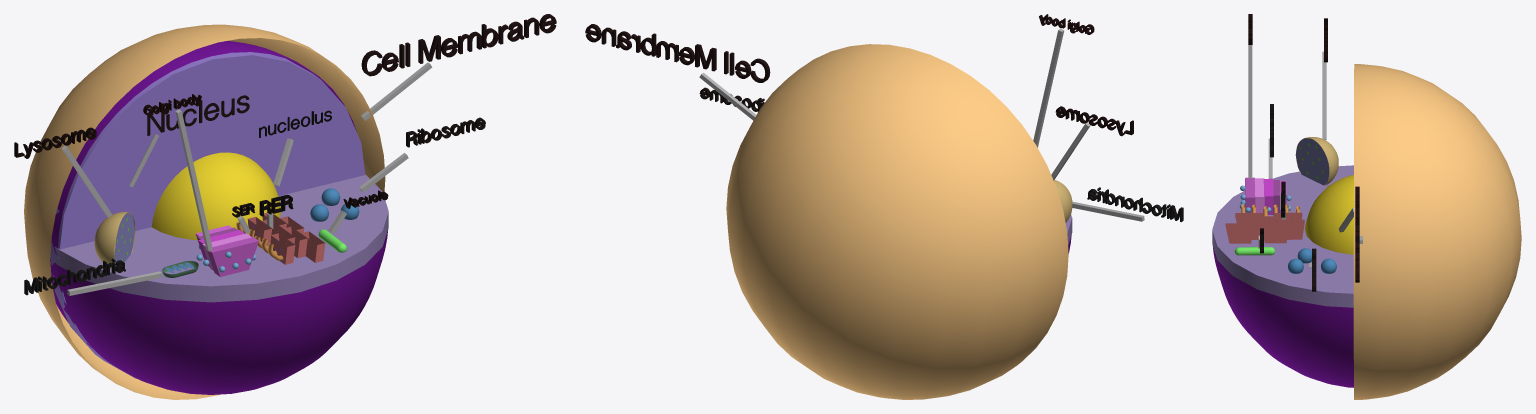
The model's file is nucleus.fbx.
3 renders of one model, left to right at view 1: azimuth 30°, elevation 25°; view 2: azimuth 150°, elevation 25°; view 3: azimuth 270°, elevation 25°, orthographic. The views are drawn at different scales.
Parts seen in each view (by area): view 1: Cylinder1, Sphere1, Sphere17, Cylinder, nucleolus, Sphere, Text, Box, Text8, Text4, Sphere2, Box21 (+9 smaller); view 2: Sphere17, Text, Text8, Box21, Text7; view 3: Sphere17, Sphere1, Cylinder, nucleolus, Circle14, Box21, Box10, Box9, Sphere2, Text, Box19, Box2 (+4 smaller).
Part boxes in pixels (x1,y1,x2,y2): Cylinder1: (50,52,365,378); Sphere1: (55,229,388,394); Sphere17: (24,24,385,399); Cylinder: (54,174,388,302); nucleolus: (151,152,281,240); Sphere: (50,41,356,344); Text: (361,14,556,76); Box: (207,237,258,276); Text8: (24,258,125,295); Text4: (147,95,249,135); Sphere2: (94,212,135,268); Box21: (175,109,212,251); Sphere17: (726,44,1068,399); Text: (585,24,770,82); Text8: (1087,187,1183,222); Box21: (1033,28,1064,147); Text7: (1055,106,1133,136); Sphere17: (1353,64,1521,399); Sphere1: (1212,245,1353,387); Cylinder: (1212,165,1353,307); nucleolus: (1304,175,1353,254); Circle14: (1295,138,1329,185); Box21: (1248,45,1252,178); Box10: (1225,223,1253,243); Box9: (1261,223,1289,243); Sphere2: (1296,137,1338,185); Text: (1355,186,1359,282); Box19: (1322,51,1326,139); Box2: (1263,178,1273,214).
Bounding box in the file's own units: 13.75 × 8.28 × 7.36.
